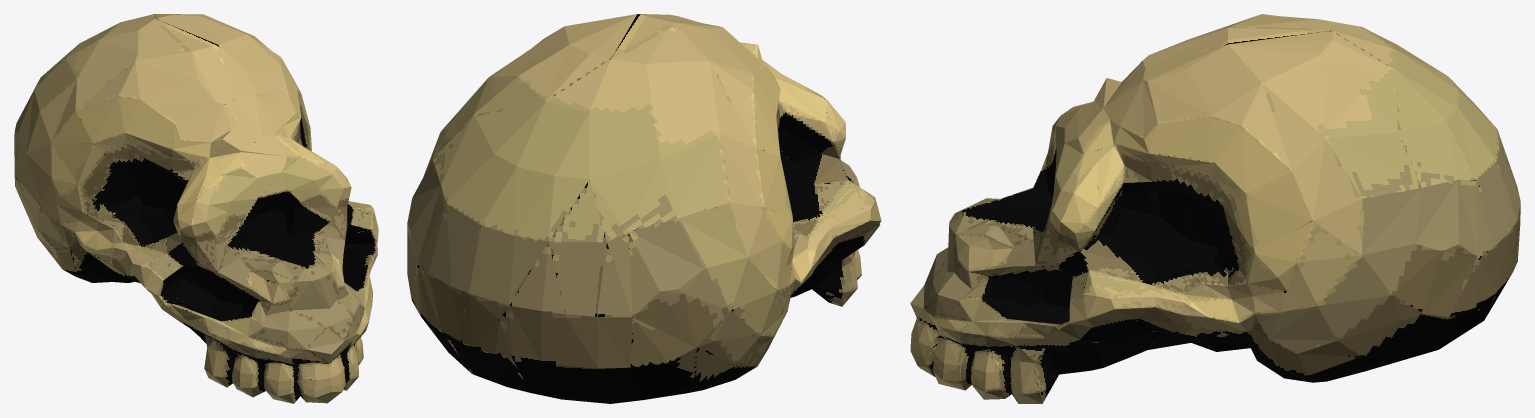
3 views of the same model, side by side, from view 1: azimuth 30°, elevation 25°; view 2: azimuth 150°, elevation 25°; view 3: azimuth 270°, elevation 25° (orthographic). The views are drawn at different scales.
Visible parts, largest first — view 1: OBJ0c3; view 2: OBJ0c3; view 3: OBJ0c3.
Boxes of the visible parts, x1,y1,x2,y2 form: OBJ0c3: (14, 14, 378, 403); OBJ0c3: (407, 14, 881, 403); OBJ0c3: (910, 14, 1520, 403).
Size of the model in its own units: 0.1498 by 0.1475 by 0.2441.
1 material, 1 textured.
